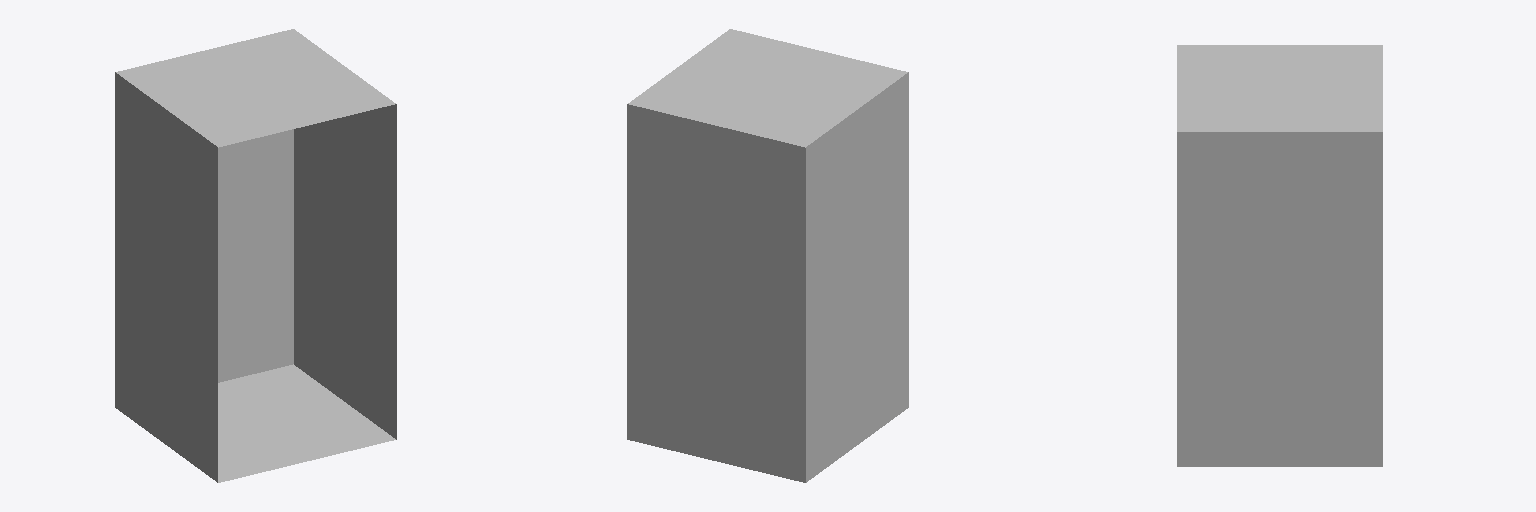
Rendered from original-12.obj.
The picture shows the model from 3 angles: view 1: azimuth 30°, elevation 25°; view 2: azimuth 150°, elevation 25°; view 3: azimuth 270°, elevation 25°; orthographic projection.
Parts seen in each view (by area): view 1: #ID109; view 2: #ID109; view 3: #ID109.
Boxes of the visible parts, box(x1,y1,x2,y2) form: #ID109: box(115, 29, 396, 482); #ID109: box(627, 29, 908, 482); #ID109: box(1177, 45, 1382, 466).
Size of the model in its own units: 0.0593 by 0.1068 by 0.0593.